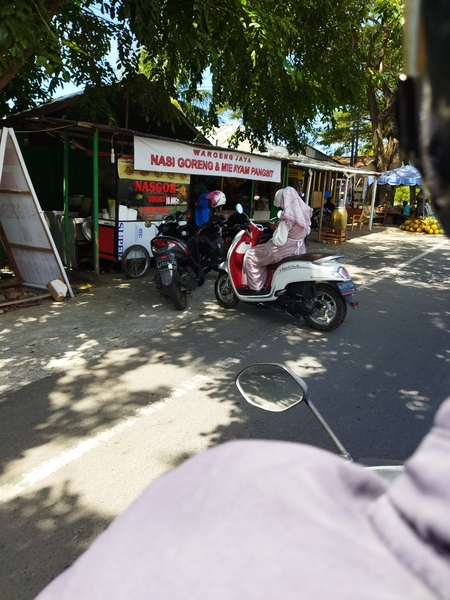motorcycle: (212, 215, 360, 335), (144, 214, 208, 313)
